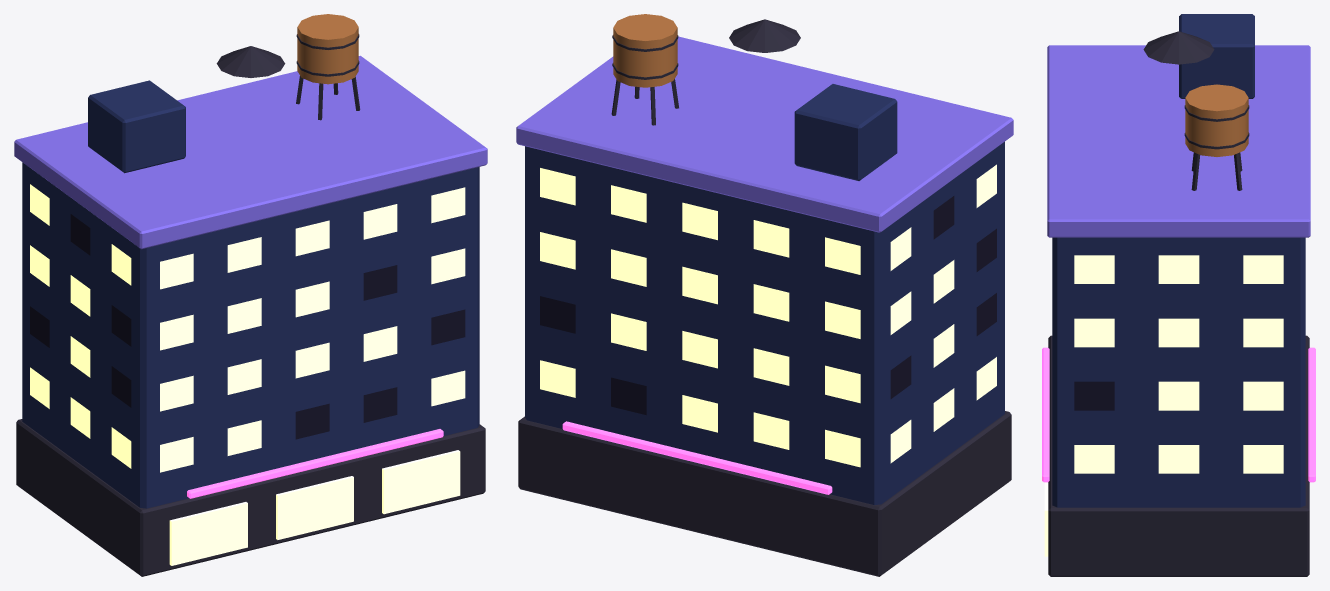
The model's file is building_b.glb.
3 renders of one model, left to right at view 1: azimuth 30°, elevation 25°; view 2: azimuth 150°, elevation 25°; view 3: azimuth 270°, elevation 25°, orthographic. The views are drawn at different scales.
Visible parts, largest first — view 1: building_b; view 2: building_b; view 3: building_b.
Part boxes in pixels (x1,y1,x2,y2): building_b: (14,14,487,576); building_b: (516,14,1013,576); building_b: (1042,14,1315,576).
Size of the model in its own units: 16.4 by 20 by 10.8.
